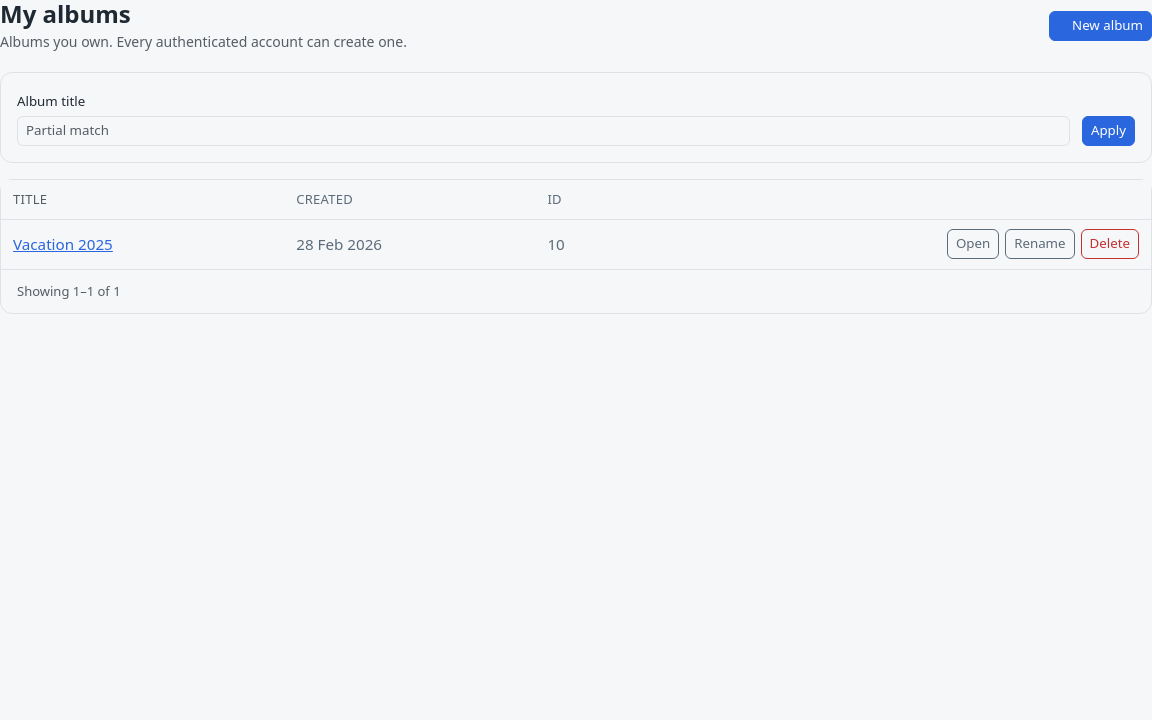
Scenario: My albums › rejects a blank title before it reaches the API
The width and height of the screenshot is (1152, 720).
Click the button "New album" at (1100, 26), box [1049,11,1151,41]
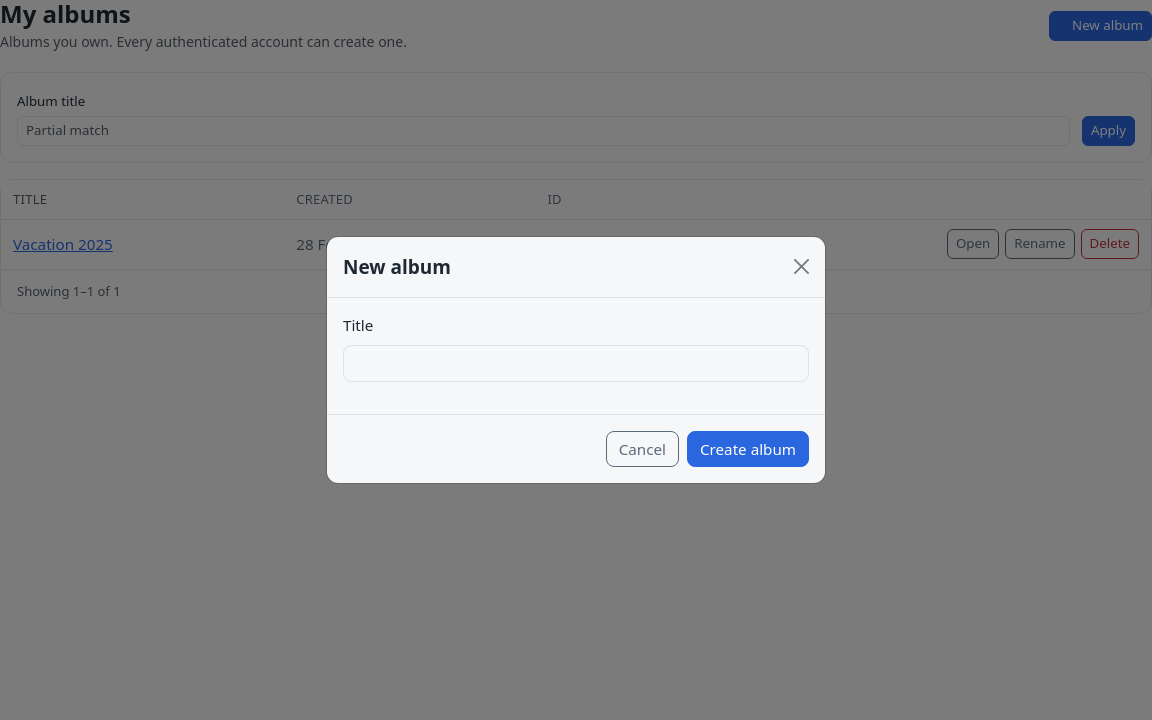
Click the button "Create album" at (748, 449), box [687,431,809,467]
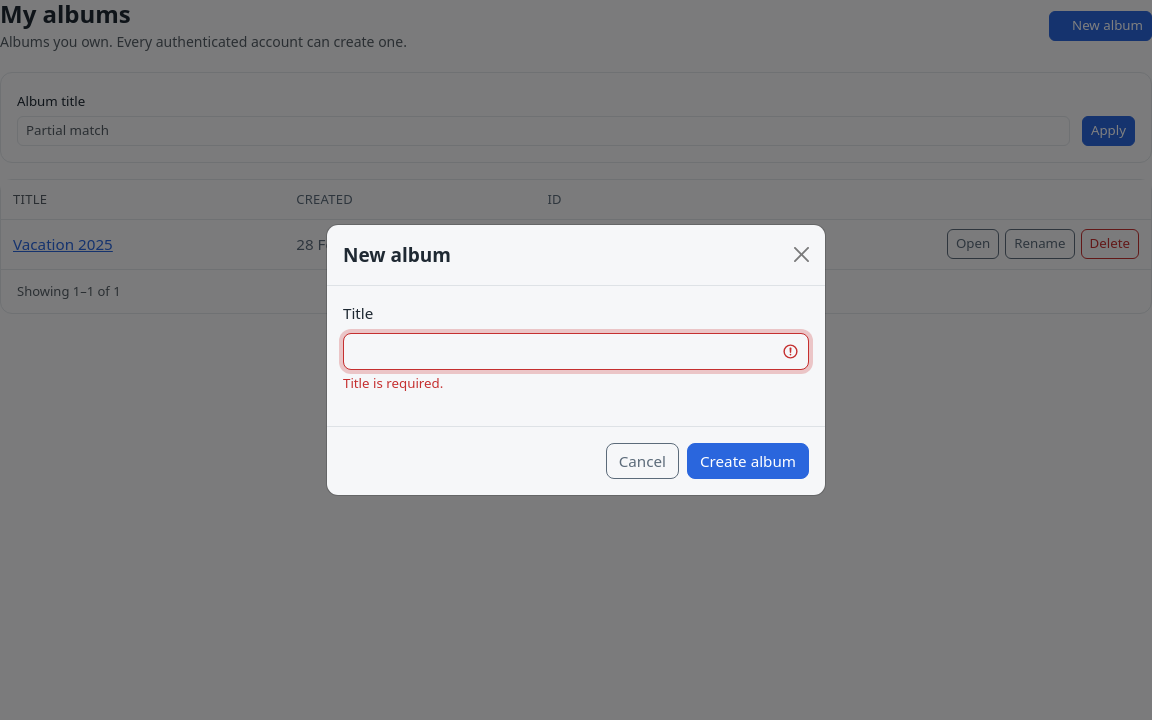
Now the text "Title is required." is shown, box [343,374,443,392]
